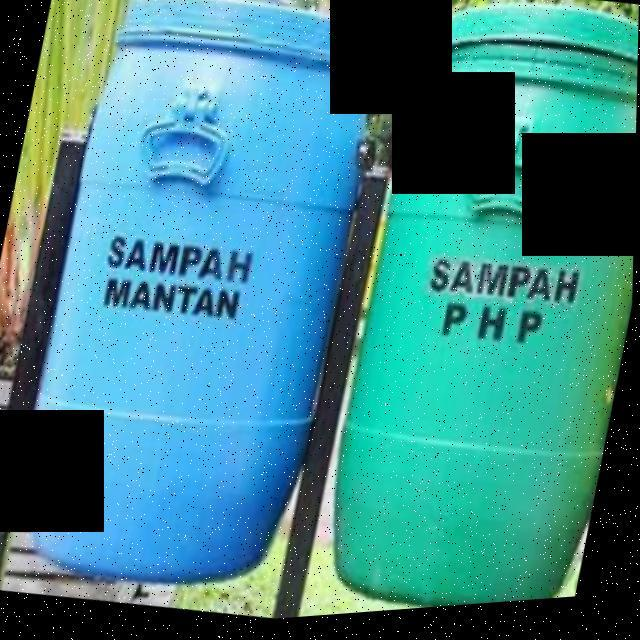bin: (0, 0, 401, 628), (308, 0, 640, 621)
